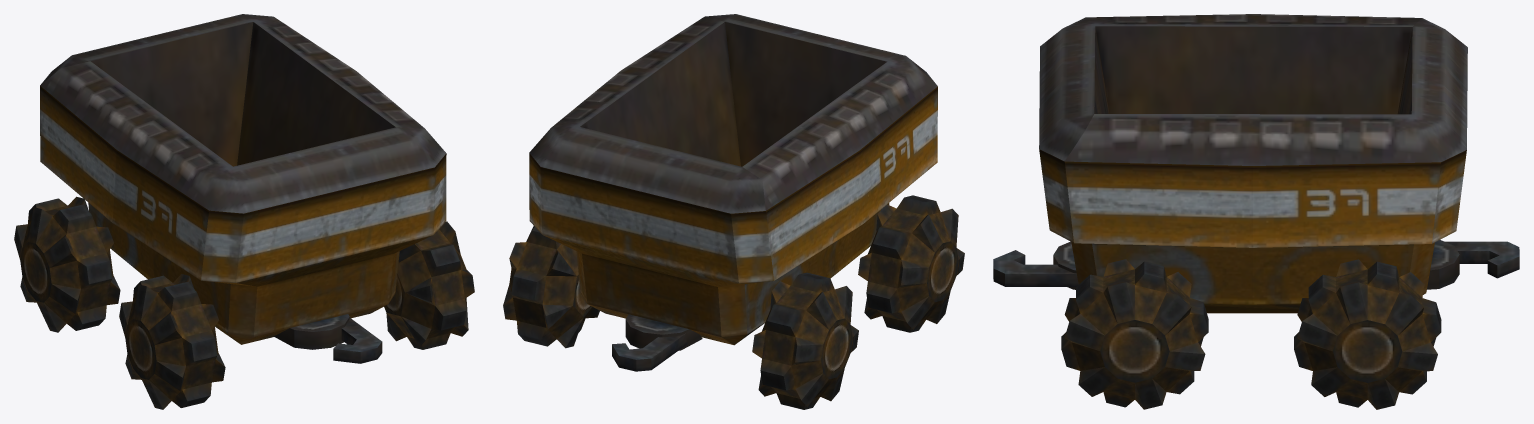
File: marsaraminecart.fbx
3 views of the same model, side by side, from view 1: azimuth 30°, elevation 25°; view 2: azimuth 150°, elevation 25°; view 3: azimuth 270°, elevation 25° (orthographic). The views are drawn at different scales.
Parts seen in each view (by area): view 1: Geoset_0; view 2: Geoset_0; view 3: Geoset_0.
Part boxes in pixels (box(x1,y1,x2,y2)): Geoset_0: box(14, 14, 474, 409); Geoset_0: box(503, 14, 964, 409); Geoset_0: box(993, 14, 1519, 409).
Size of the model in its own units: 1.26 by 0.921 by 1.67.
Materials: 1 (1 with a texture image).
